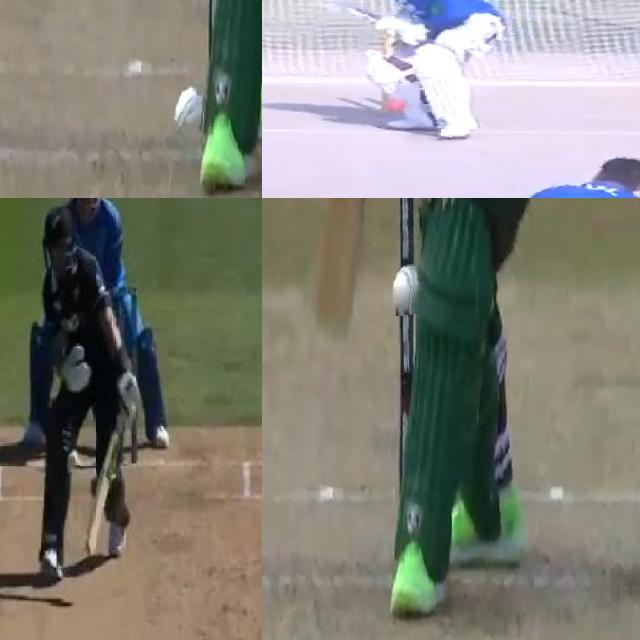Cricket ball: (392, 262, 427, 317), (174, 85, 206, 136), (67, 448, 82, 473), (384, 99, 408, 114)
